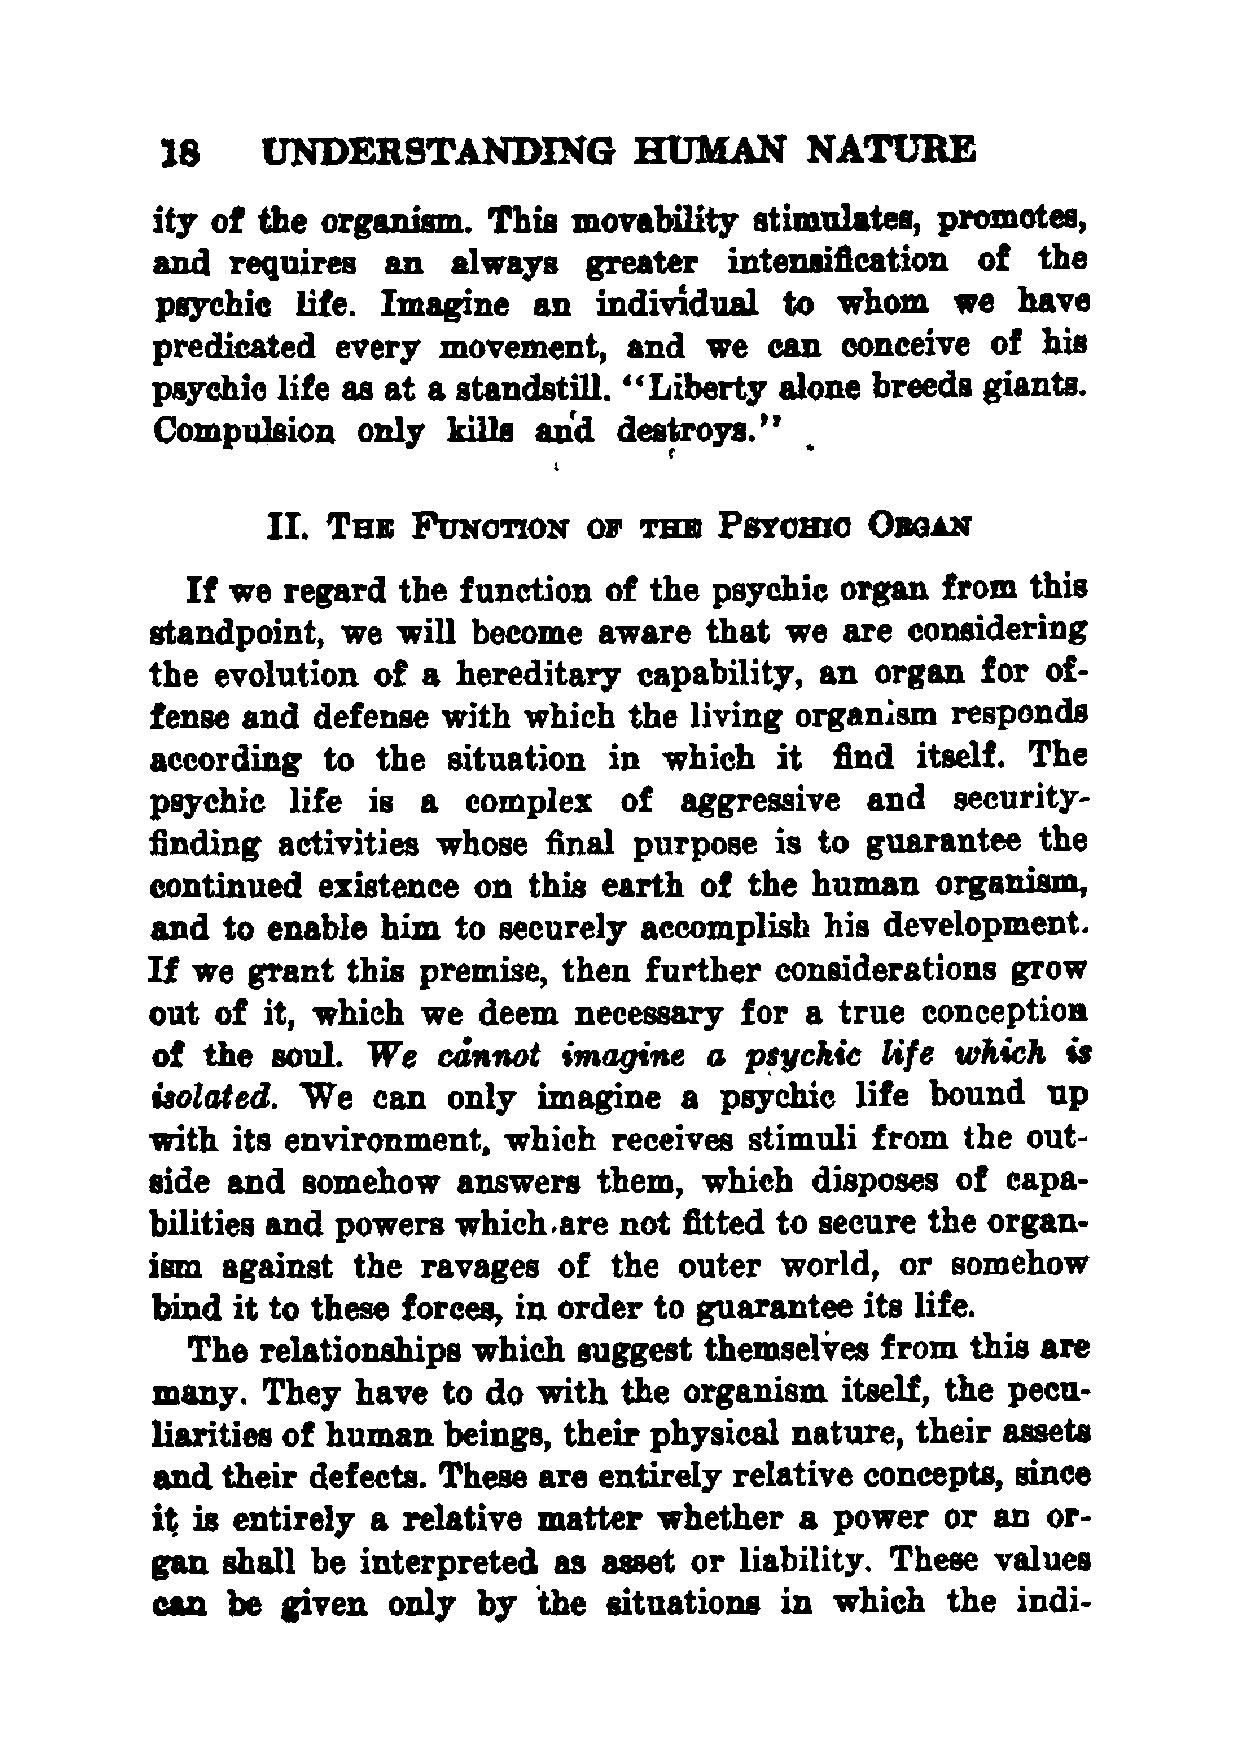chapter: (254, 505, 974, 539)
content: (142, 562, 1099, 1624), (149, 199, 1092, 440)
content_chapter: (260, 133, 980, 166)
content_pagenumber: (156, 127, 204, 174)
